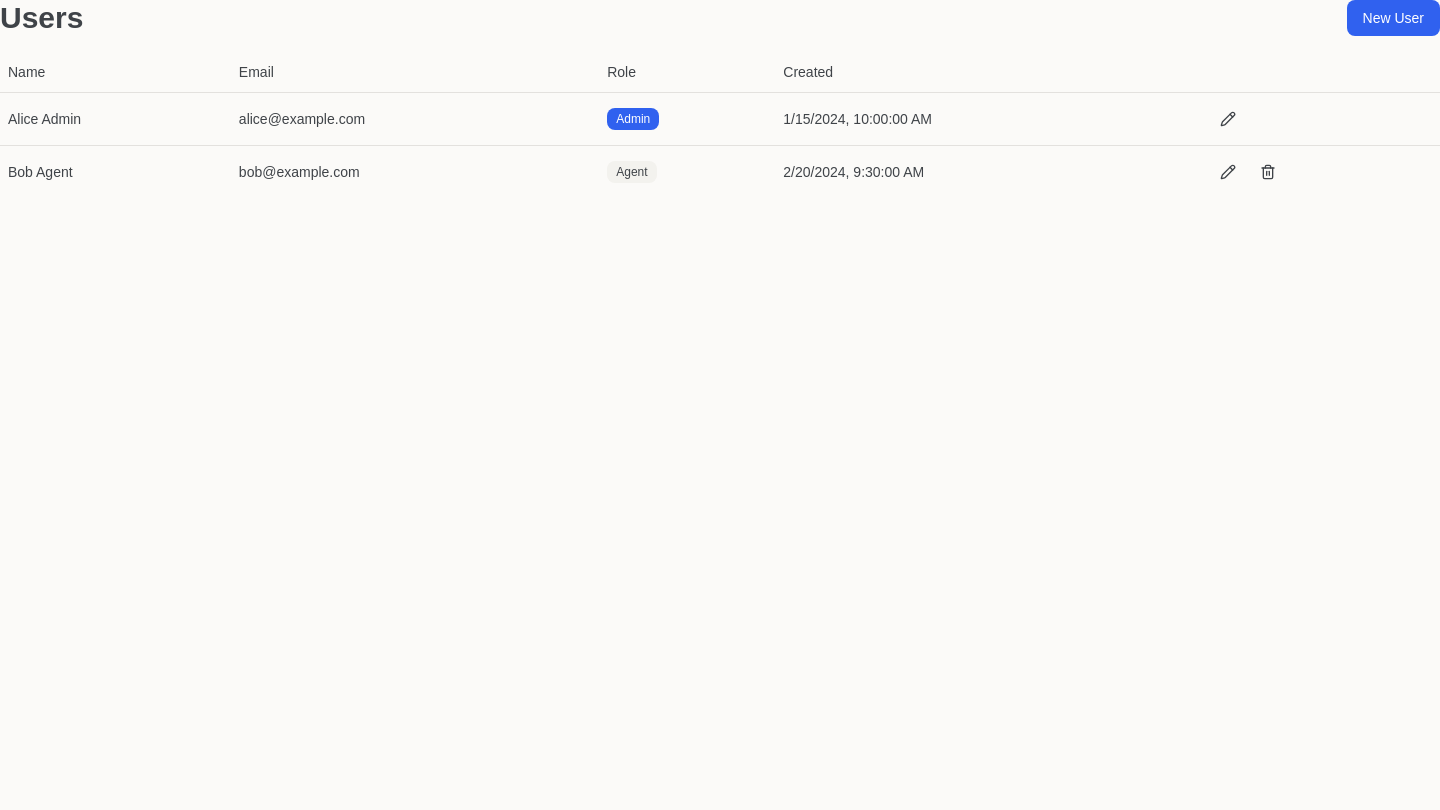
UsersPage › Edit User modal › dismisses the dialog when Cancel is clicked
Expected: the text "Alice Admin" is shown, [0, 92, 231, 145]
Click the button named "edit alice admin" at (1228, 118), box [1210, 100, 1246, 136]
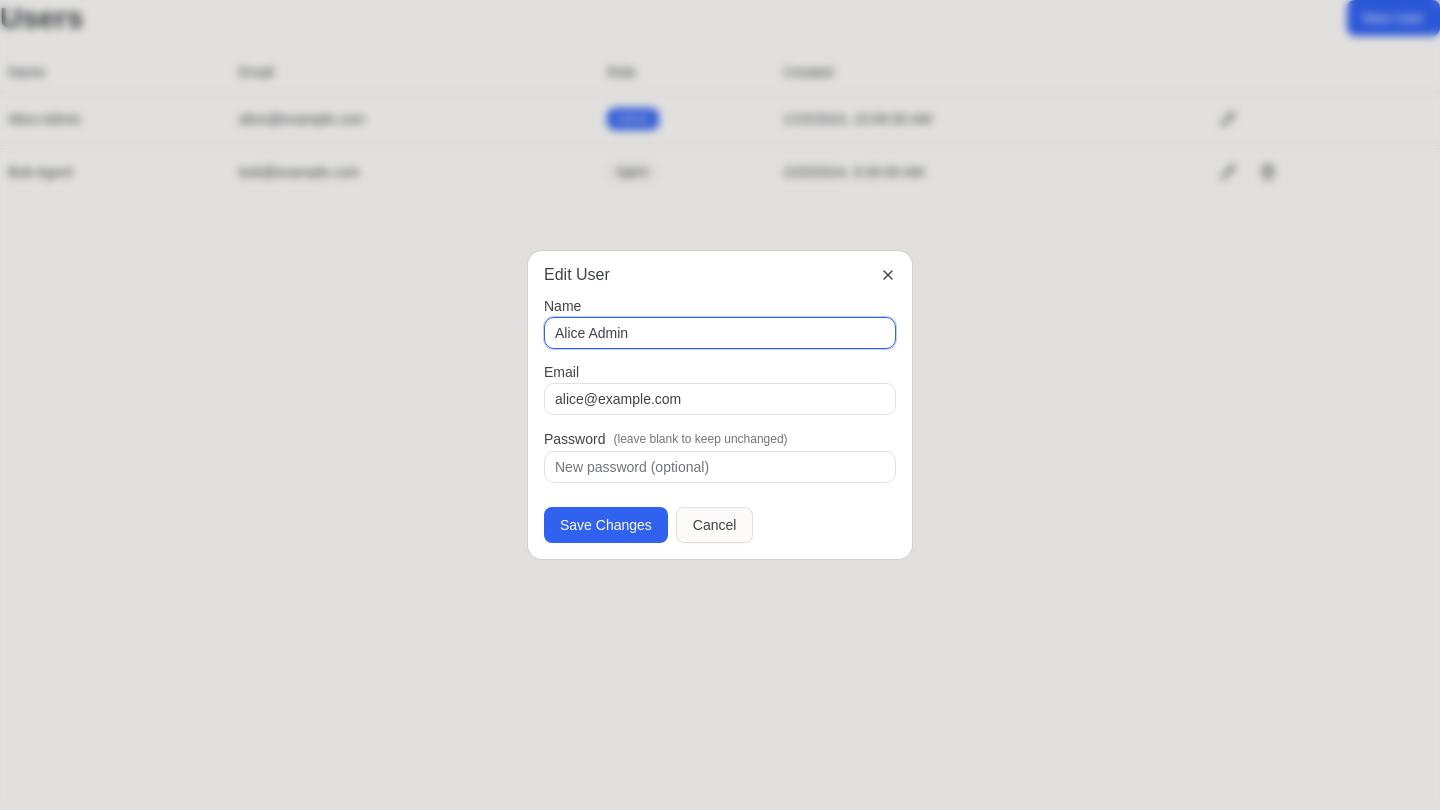
Click the button "Cancel" at (715, 525), box [676, 507, 753, 543]
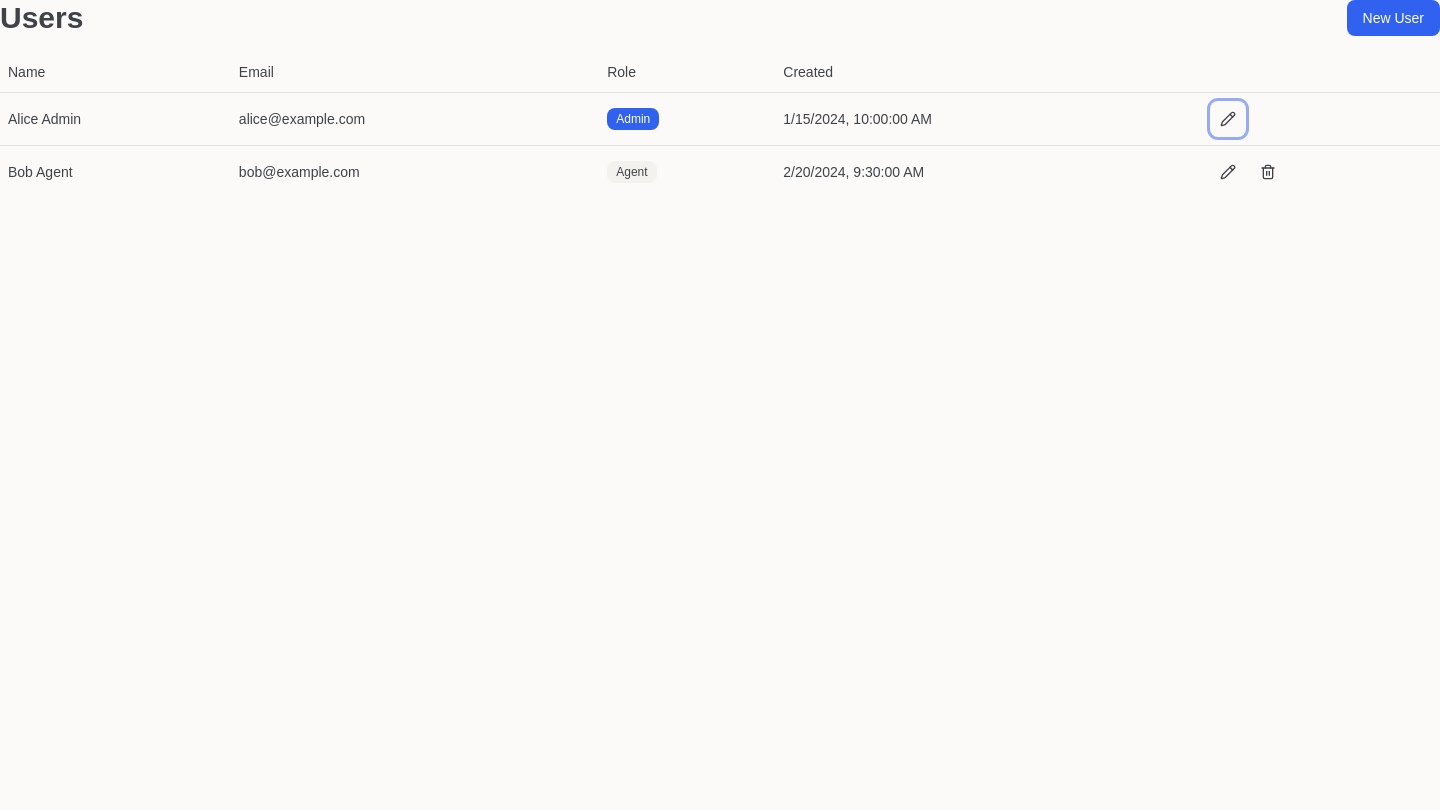
Expected: the dialog is gone
